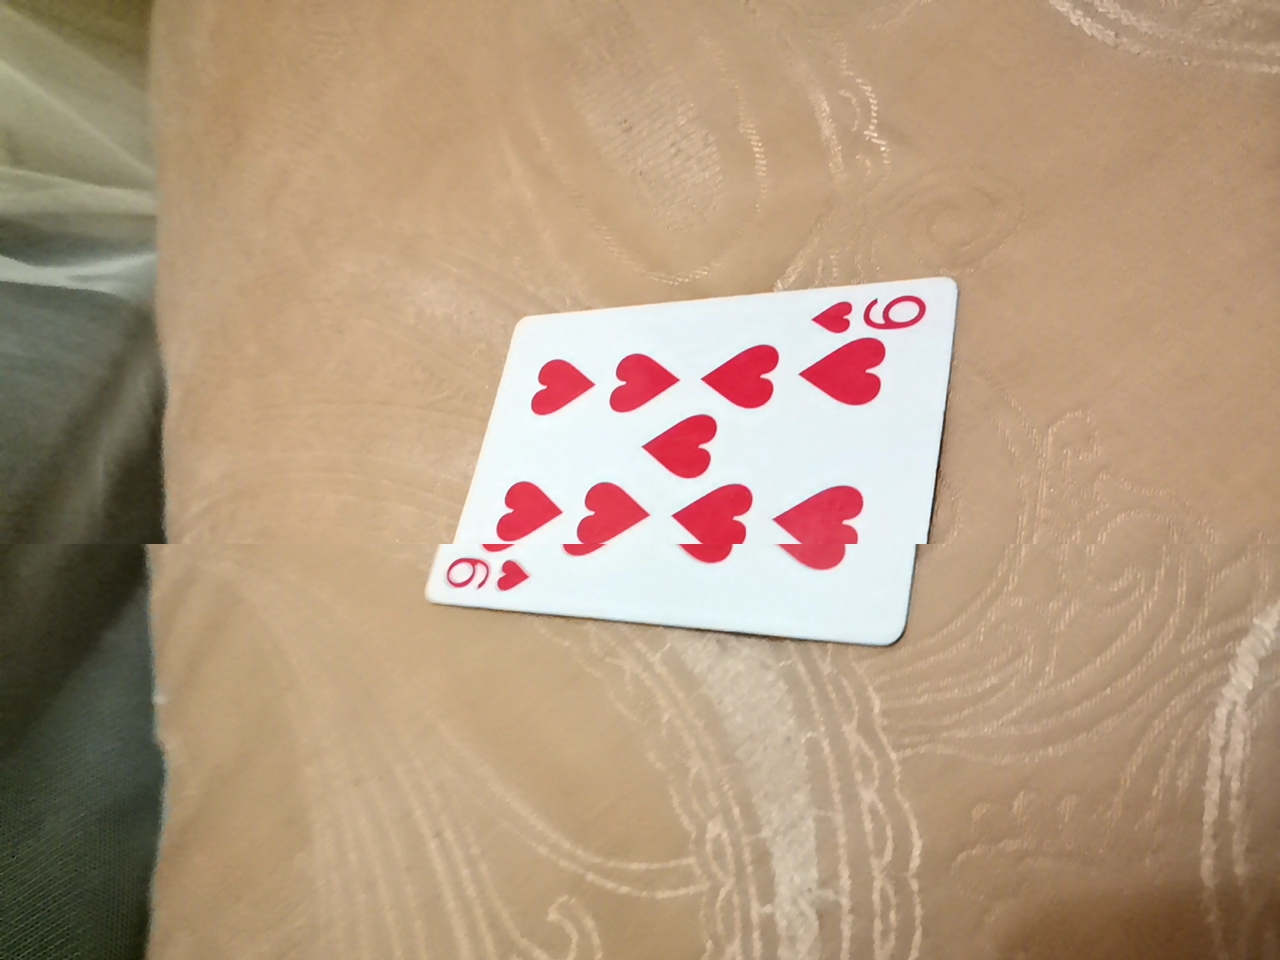hx 9: (438, 272, 958, 629)
